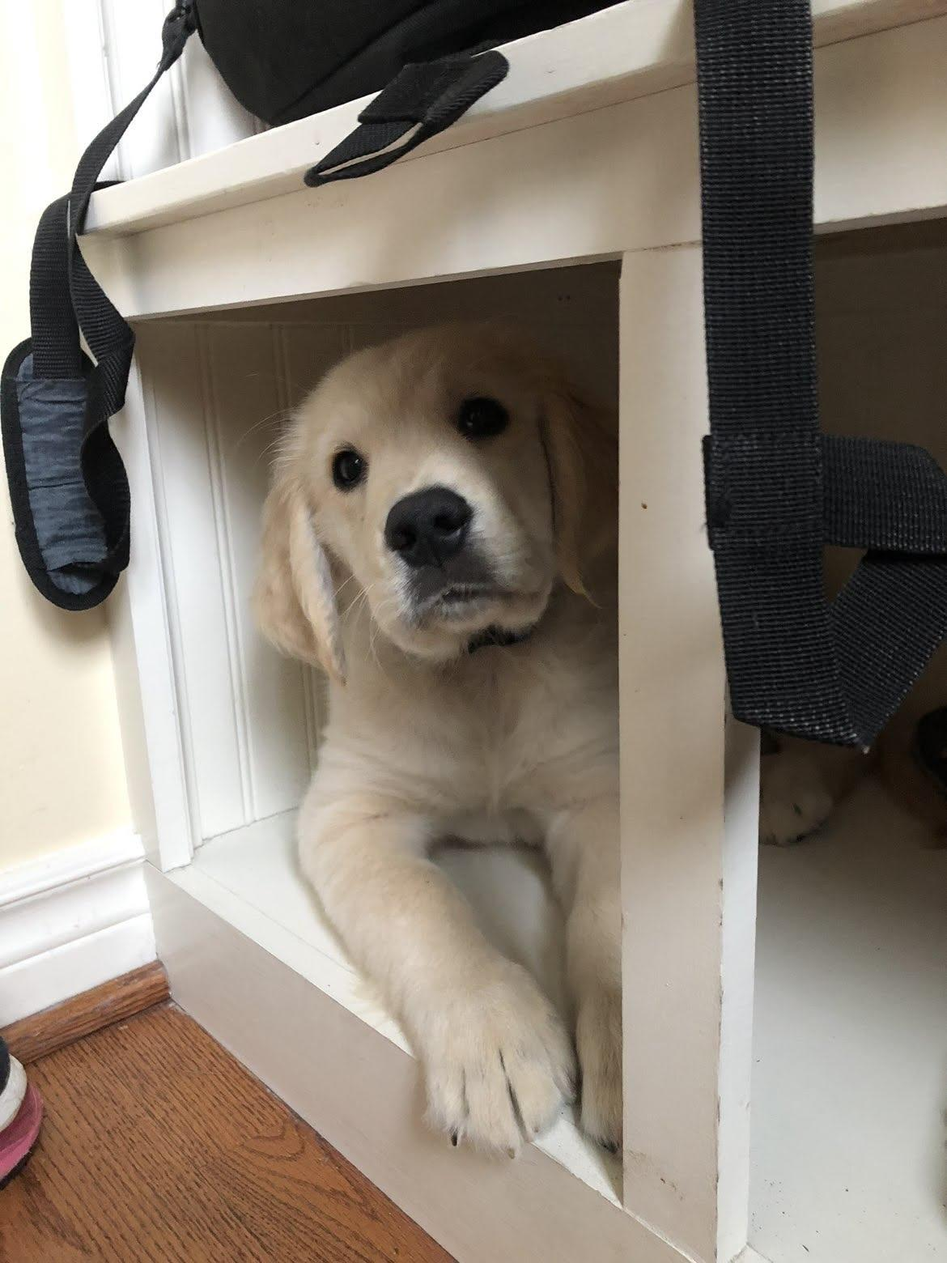puppy-dog: (250, 317, 626, 1163), (759, 559, 947, 856)
